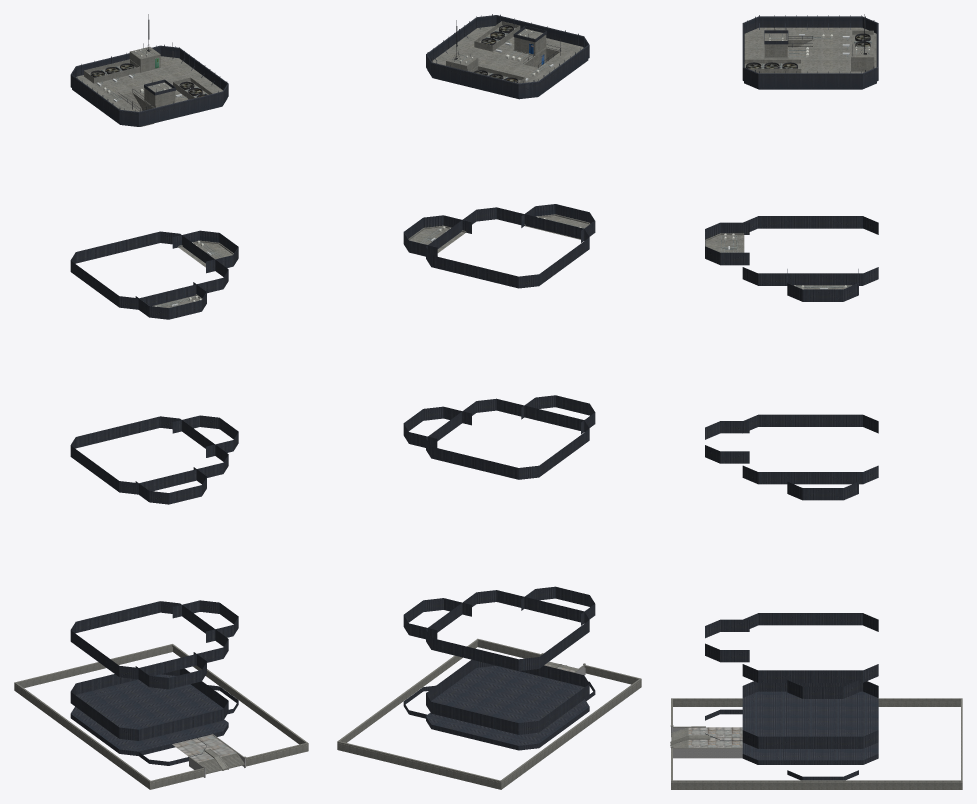
Rendered from u2NBuild4.gltf.
3 views of the same model, side by side, from view 1: azimuth 30°, elevation 25°; view 2: azimuth 150°, elevation 25°; view 3: azimuth 270°, elevation 25° (orthographic). The views are drawn at different scales.
Parts seen in each view (by area): view 1: u2NBuild4; view 2: u2NBuild4; view 3: u2NBuild4.
Part boxes in pixels (bbox=[...]): u2NBuild4: bbox=[14, 14, 308, 789]; u2NBuild4: bbox=[337, 14, 641, 789]; u2NBuild4: bbox=[670, 14, 962, 789].
Bounding box in the file's own units: 16.47 × 68.47 × 24.5.
Materials: 7 (7 with a texture image).
